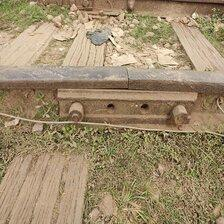railway-gap: (113, 60, 144, 93)
